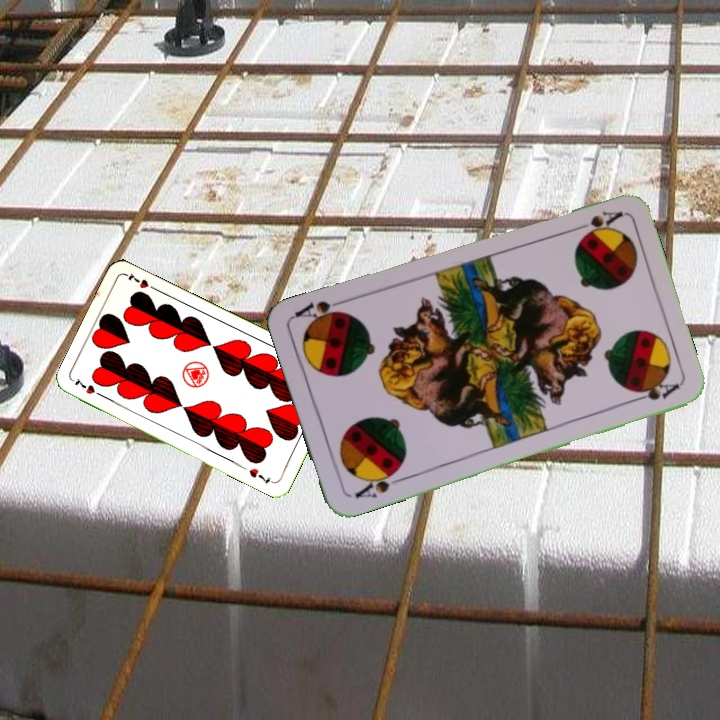H7: (70, 375, 107, 400)
SA: (351, 465, 406, 501), (567, 206, 625, 239)
